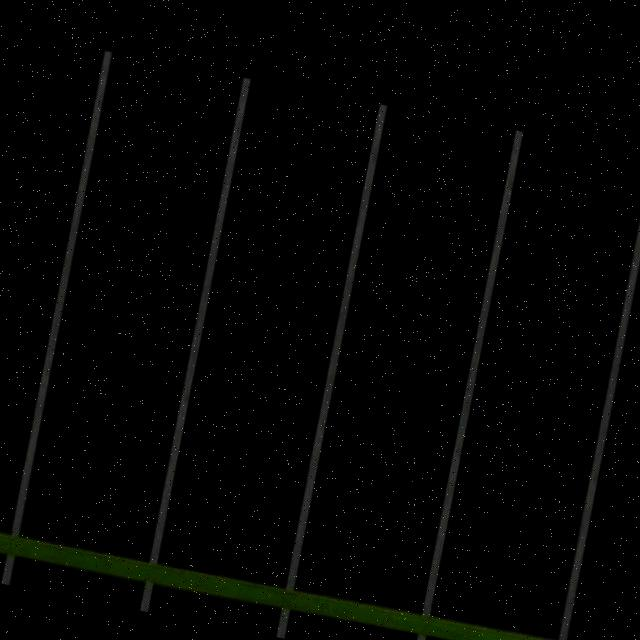empty: (3, 39, 260, 579), (275, 102, 535, 626), (142, 78, 393, 613), (413, 132, 640, 640)
